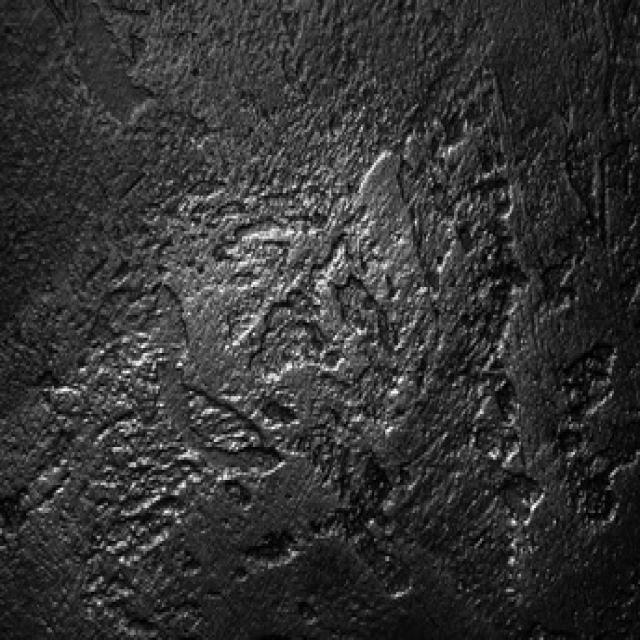Sedimentary: (2, 2, 636, 632)
